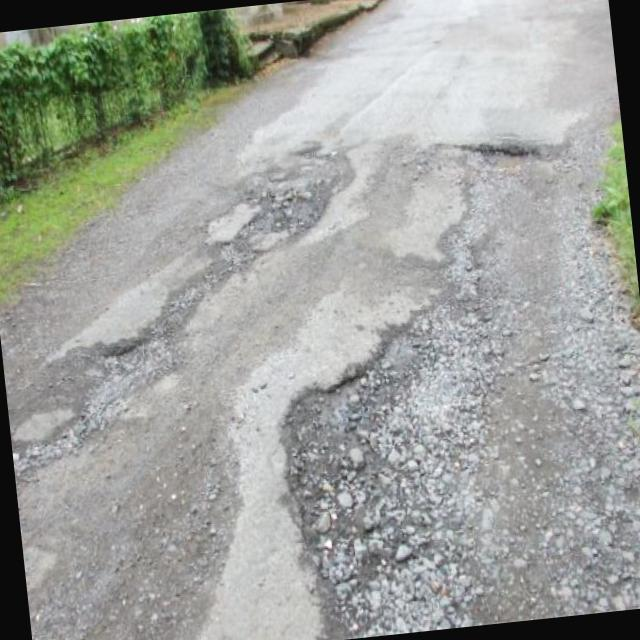pothole: (255, 293, 534, 640), (414, 119, 542, 183)
